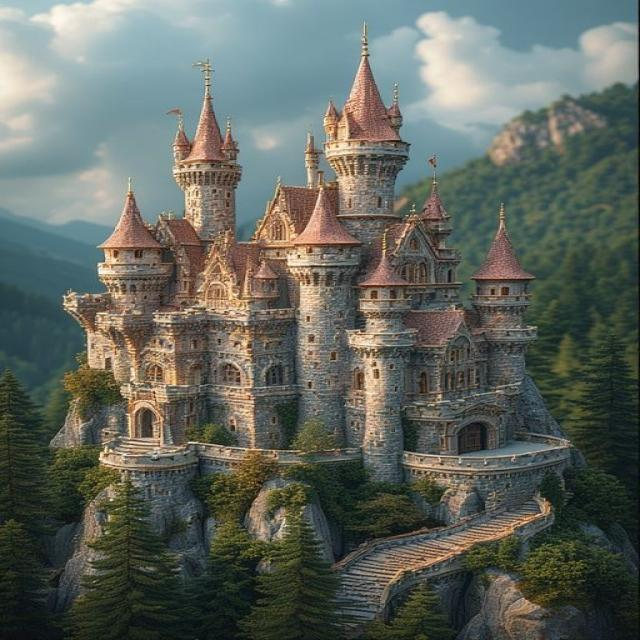castle: (45, 14, 584, 468)
